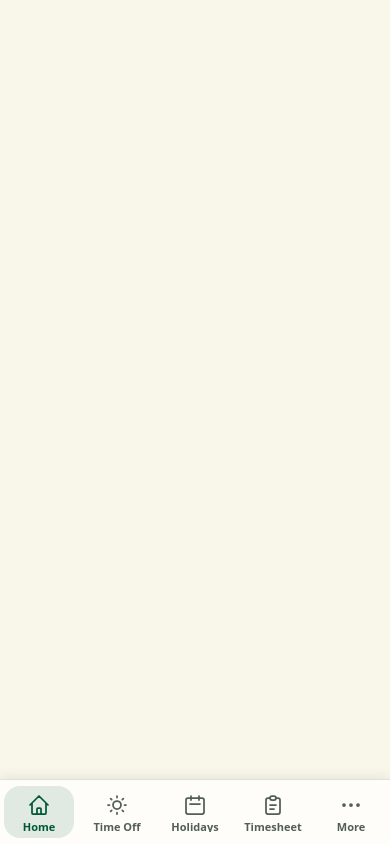
EmsMobileBottomNav › closes the More sheet on Escape
Click the button "More": (351, 812) [316,786,386,838]
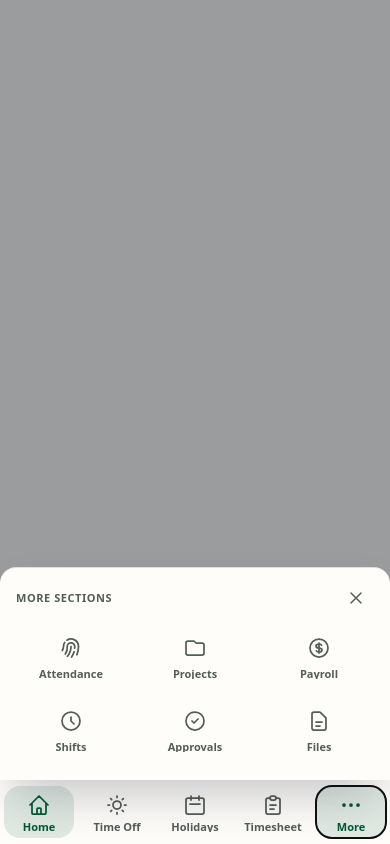
Result: the dialog is shown at [0,567,389,780]
Press Escape
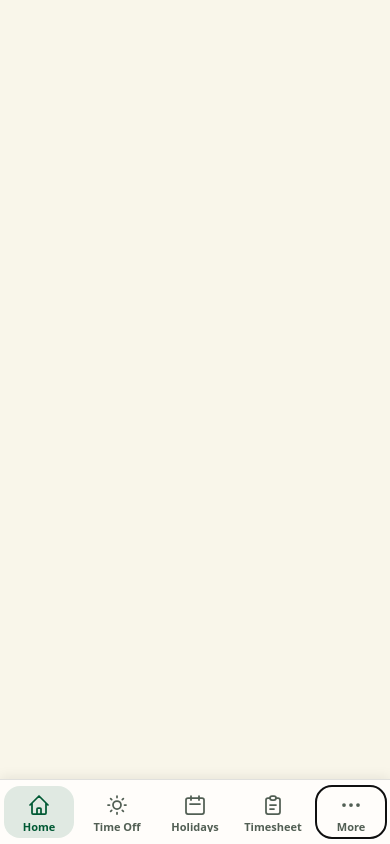
Result: the dialog is gone
